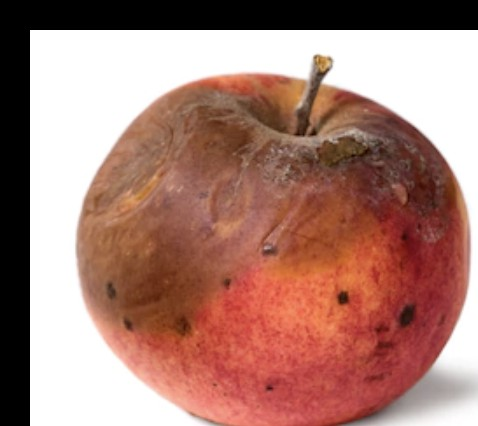rotten_apple: (74, 70, 471, 426)
